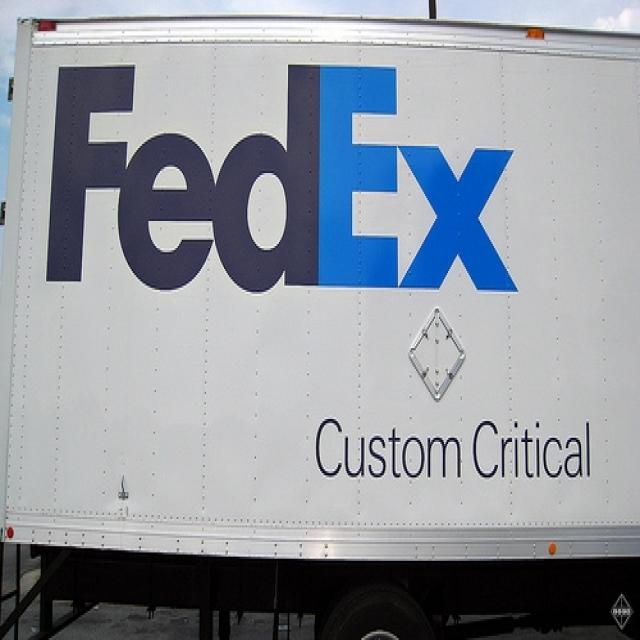fedex: (41, 57, 526, 299)
